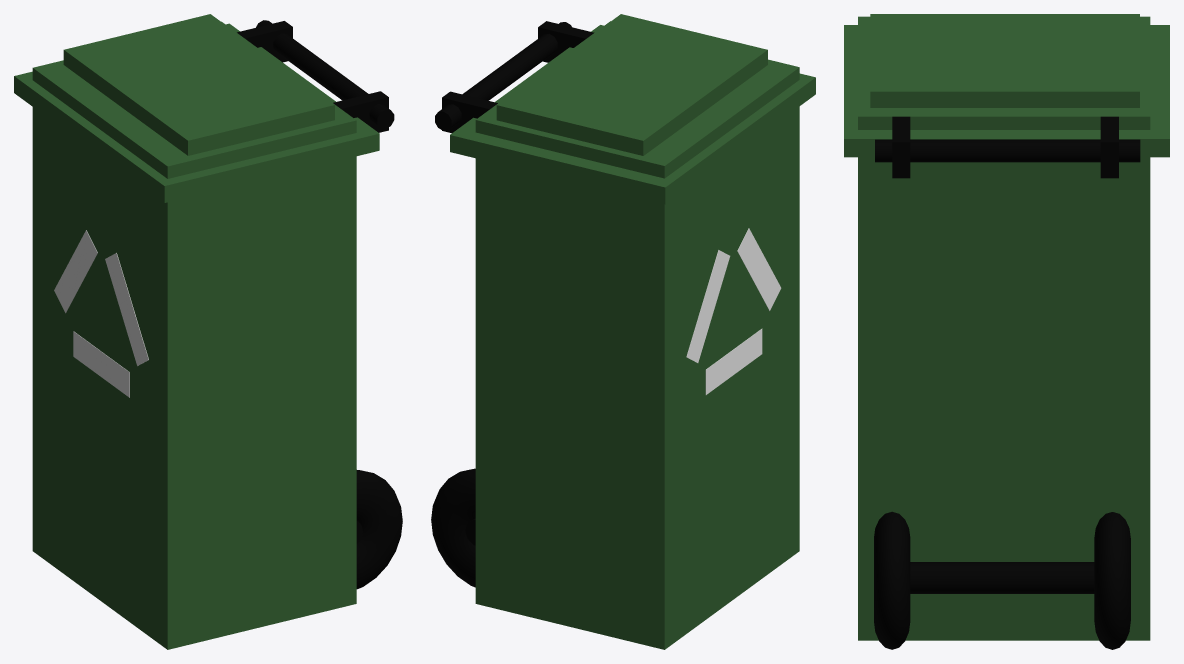
The model's file is trashCanModel.fbx.
3 views of the same model, side by side, from view 1: azimuth 30°, elevation 25°; view 2: azimuth 150°, elevation 25°; view 3: azimuth 270°, elevation 25° (orthographic). The views are drawn at different scales.
Parts seen in each view (by area): view 1: Cube, Cube__1_, Cube_1, Torus, Cylinder, Cube__5_, Cube__4_, Cube__6_, Cube__2_, Cube__3_; view 2: Cube, Cube__1_, Cube_1, Torus__1_, Cylinder, Cube__4_, Cube__6_, Cube__5_, Cube__3_, Cube__2_; view 3: Cube, Cube__1_, Cube_1, Cylinder_1, Cylinder, Torus__1_, Torus, Cube__2_, Cube__3_.
Boxes of the visible parts, x1,y1,x2,y2 form: Cube: (32,21,356,649); Cube__1_: (63,14,334,155); Cube_1: (14,23,379,202); Torus: (356,470,402,589); Cylinder: (256,20,394,128); Cube__5_: (105,253,148,365); Cube__4_: (54,230,97,313); Cube__6_: (73,331,129,397); Cube__2_: (333,91,388,132); Cube__3_: (237,21,292,62); Cube: (475,21,799,649); Cube__1_: (496,14,767,155); Cube_1: (450,25,815,204); Torus__1_: (431,468,475,587); Cylinder: (435,22,571,130); Cube__4_: (686,250,730,362); Cube__6_: (705,328,762,394); Cube__5_: (737,228,781,310); Cube__3_: (442,91,497,133); Cube__2_: (538,21,594,62); Cube: (858,16,1150,640); Cube__1_: (870,14,1139,107); Cube_1: (844,25,1169,157); Cylinder_1: (910,562,1094,593); Cylinder: (875,139,1140,162); Torus__1_: (1094,512,1130,649); Torus: (874,511,910,649); Cube__2_: (892,116,910,178); Cube__3_: (1100,116,1118,178).
Bounding box in the file's own units: 110 × 204 × 111.
